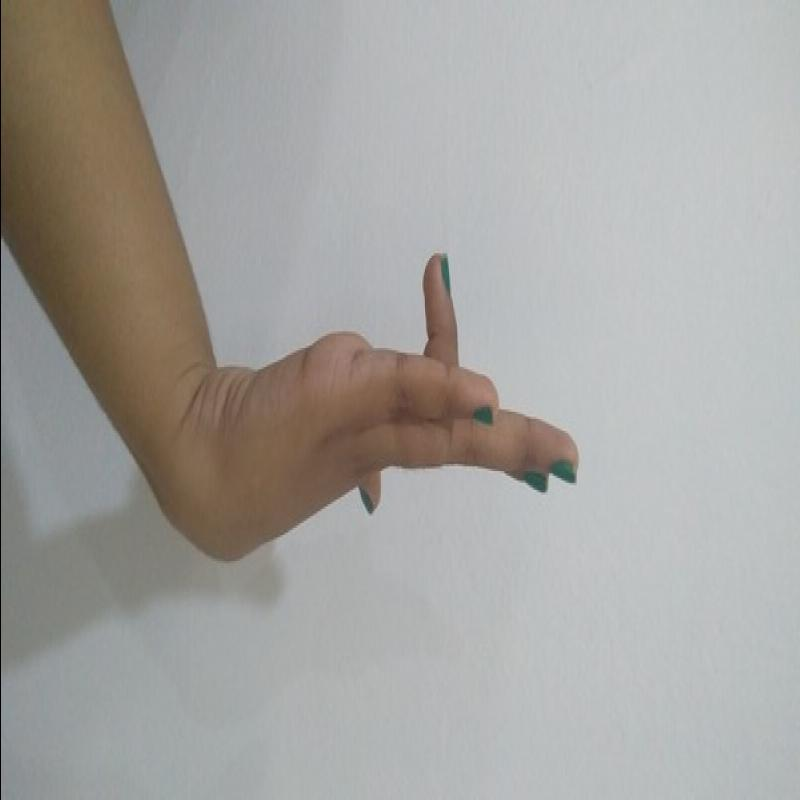Pathaaka: (201, 240, 596, 574)
